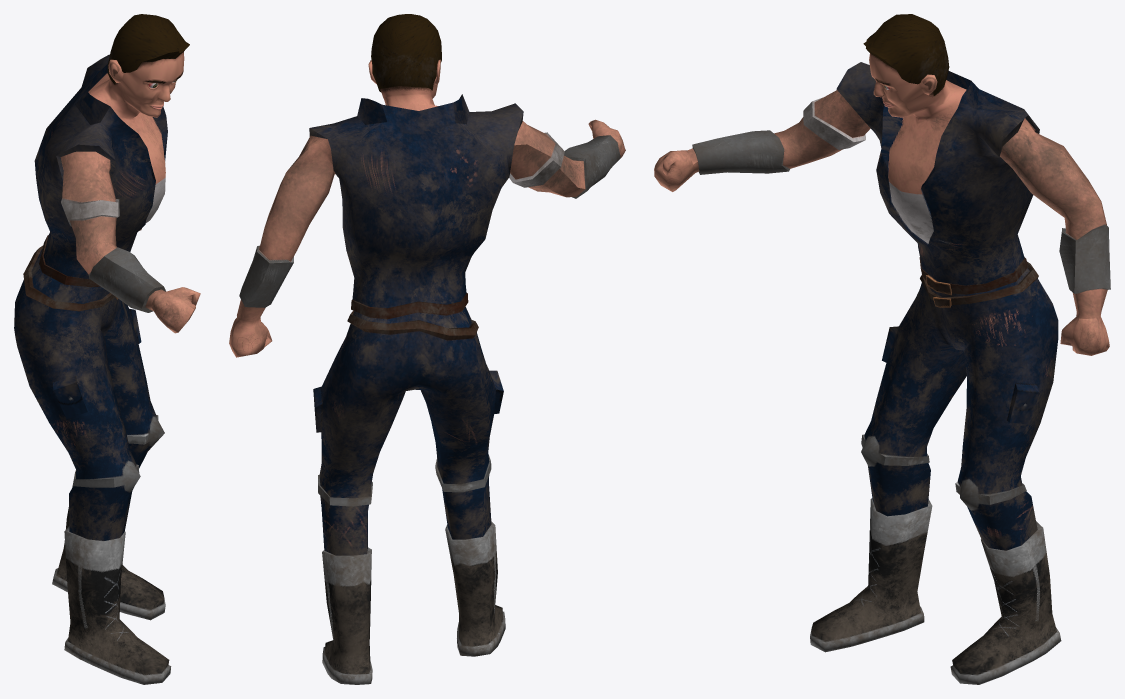
Rendered from Anim_puerta_mal_jugador.0024.obj.
3 renders of one model, left to right at view 1: azimuth 30°, elevation 25°; view 2: azimuth 150°, elevation 25°; view 3: azimuth 270°, elevation 25°, orthographic. The views are drawn at different scales.
Parts seen in each view (by area): view 1: polySurface1; view 2: polySurface1; view 3: polySurface1.
Boxes of the visible parts, box(x1,y1,x2,y2) form: polySurface1: box(14, 14, 200, 684); polySurface1: box(229, 14, 625, 684); polySurface1: box(654, 14, 1110, 684).
Size of the model in its own units: 3.23 by 9.36 by 6.01.
